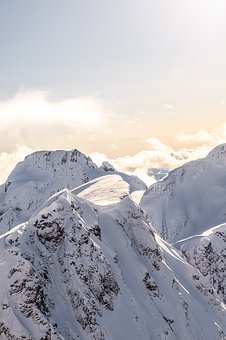mountain: (11, 142, 218, 340)
sky: (3, 5, 219, 156)
